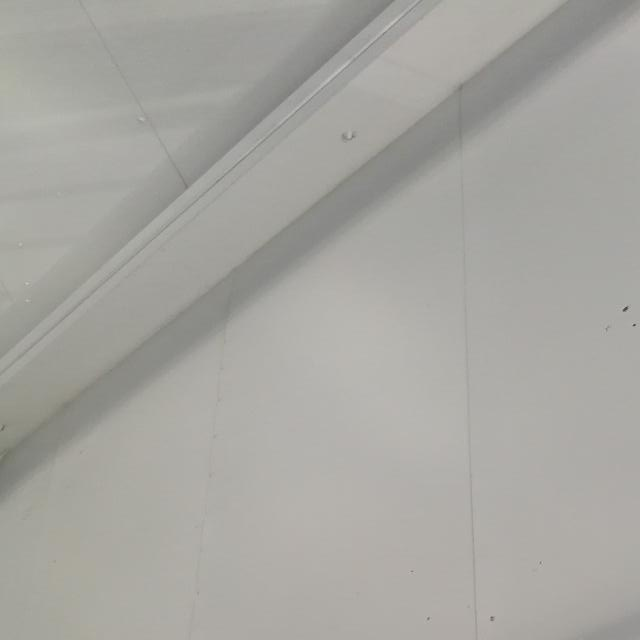fluorescent tube: (304, 408, 640, 640)
